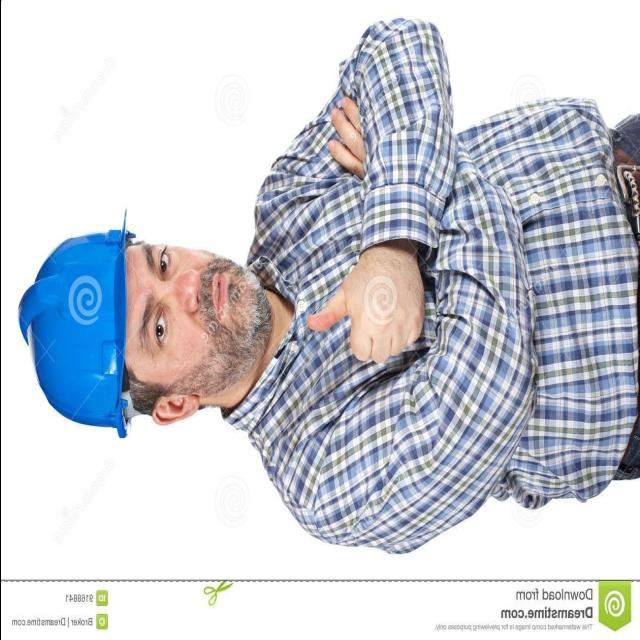helmet: (13, 198, 139, 454)
